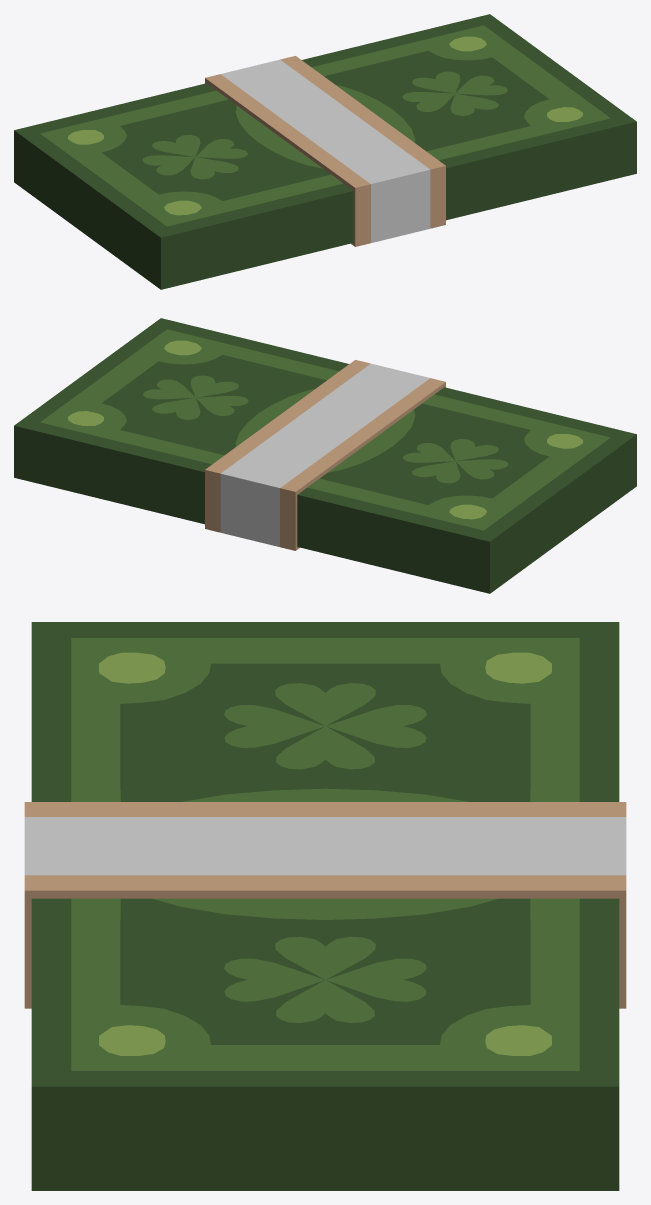
Rendered from PaperMoney_02_Thick.fbx.
3 renders of one model, top to bottom at view 1: azimuth 30°, elevation 25°; view 2: azimuth 150°, elevation 25°; view 3: azimuth 270°, elevation 25°, orthographic. The views are drawn at different scales.
Parts seen in each view (by area): view 1: PaperMoney_02_Thick, PaperMoney_02_Thick_Band; view 2: PaperMoney_02_Thick, PaperMoney_02_Thick_Band; view 3: PaperMoney_02_Thick, PaperMoney_02_Thick_Band.
Part boxes in pixels (left/top/right/bottom): PaperMoney_02_Thick: left=14, top=14, right=636, bottom=289; PaperMoney_02_Thick_Band: left=205, top=56, right=445, bottom=246; PaperMoney_02_Thick: left=14, top=318, right=636, bottom=593; PaperMoney_02_Thick_Band: left=205, top=360, right=445, bottom=550; PaperMoney_02_Thick: left=31, top=622, right=619, bottom=1190; PaperMoney_02_Thick_Band: left=24, top=802, right=626, bottom=1008.
Size of the model in its own units: 0.208 by 0.0247 by 0.1138.
